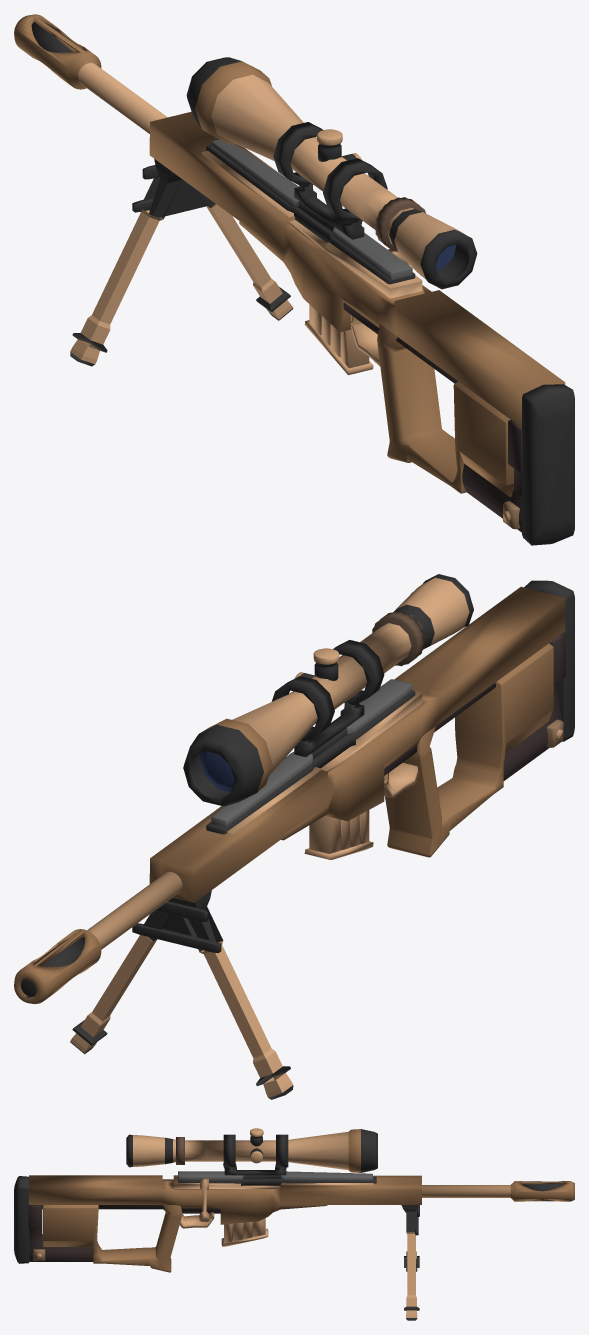
File: Sniper.glb
3 views of the same model, one above another, from view 1: azimuth 30°, elevation 25°; view 2: azimuth 150°, elevation 25°; view 3: azimuth 270°, elevation 25° (orthographic). The views are drawn at different scales.
Visible parts, largest first — view 1: Cylinder.002; view 2: Cylinder.002; view 3: Cylinder.002.
Boxes of the visible parts, x1,y1,x2,y2 form: Cylinder.002: [14, 14, 574, 545]; Cylinder.002: [14, 574, 574, 1099]; Cylinder.002: [14, 1128, 574, 1320].
Bounding box in the file's own units: 6.8 × 9.46 × 28.97.
